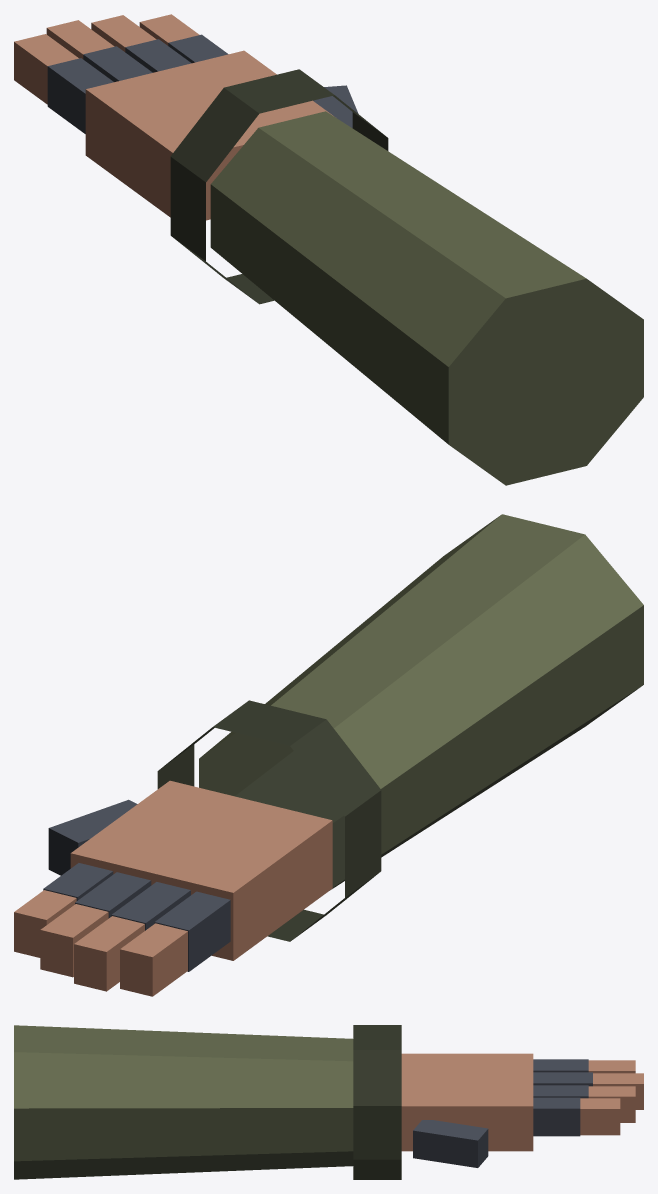
The model's file is Hand_FirstPerson.fbx.
3 views of the same model, one above another, from view 1: azimuth 30°, elevation 25°; view 2: azimuth 150°, elevation 25°; view 3: azimuth 270°, elevation 25° (orthographic). The views are drawn at different scales.
Parts seen in each view (by area): view 1: Sleeve, Palm, Cuff, Finger1_Base, Finger1_Tip, Finger2_Tip, Finger2_Base, Finger3_Tip, Finger3_Base, Finger4_Tip, Finger4_Base, Thumb; view 2: Sleeve, Palm, Cuff, Finger1_Tip, Finger1_Base, Finger2_Tip, Finger3_Tip, Thumb, Finger4_Tip, Finger2_Base, Finger3_Base, Finger4_Base; view 3: Sleeve, Palm, Cuff, Thumb, Finger4_Base, Finger4_Tip, Finger3_Tip, Finger2_Tip, Finger2_Base, Finger1_Base, Finger3_Base, Finger1_Tip.
Boxes of the visible parts, x1,y1,x2,y2 form: Sleeve: [210, 111, 643, 485]; Palm: [85, 50, 333, 220]; Cuff: [170, 69, 388, 304]; Finger1_Base: [47, 58, 113, 133]; Finger1_Tip: [14, 34, 78, 104]; Finger2_Tip: [46, 20, 114, 58]; Finger2_Base: [83, 46, 152, 81]; Finger3_Tip: [91, 15, 156, 51]; Finger3_Base: [125, 39, 191, 72]; Finger4_Tip: [139, 14, 199, 45]; Finger4_Base: [168, 34, 228, 63]; Thumb: [313, 85, 358, 127]; Sleeve: [199, 514, 643, 889]; Palm: [70, 780, 332, 960]; Cuff: [157, 700, 381, 941]; Finger1_Tip: [120, 923, 187, 996]; Finger1_Base: [154, 891, 230, 971]; Finger2_Tip: [74, 916, 144, 991]; Finger3_Tip: [40, 904, 108, 977]; Thumb: [48, 799, 137, 875]; Finger4_Tip: [14, 890, 76, 957]; Finger2_Base: [111, 882, 190, 930]; Finger3_Base: [75, 872, 151, 918]; Finger4_Base: [43, 863, 113, 900]; Sleeve: [14, 1025, 353, 1179]; Palm: [401, 1053, 533, 1151]; Cuff: [353, 1025, 401, 1179]; Thumb: [413, 1120, 488, 1167]; Finger4_Base: [533, 1097, 580, 1136]; Finger4_Tip: [580, 1098, 620, 1135]; Finger3_Tip: [588, 1086, 635, 1122]; Finger2_Tip: [593, 1073, 643, 1109]; Finger2_Base: [533, 1072, 592, 1086]; Finger1_Base: [533, 1059, 588, 1072]; Finger3_Base: [533, 1085, 588, 1098]; Finger1_Tip: [588, 1060, 635, 1073].
Size of the model in its own units: 0.1356 by 0.1035 by 0.4549.
